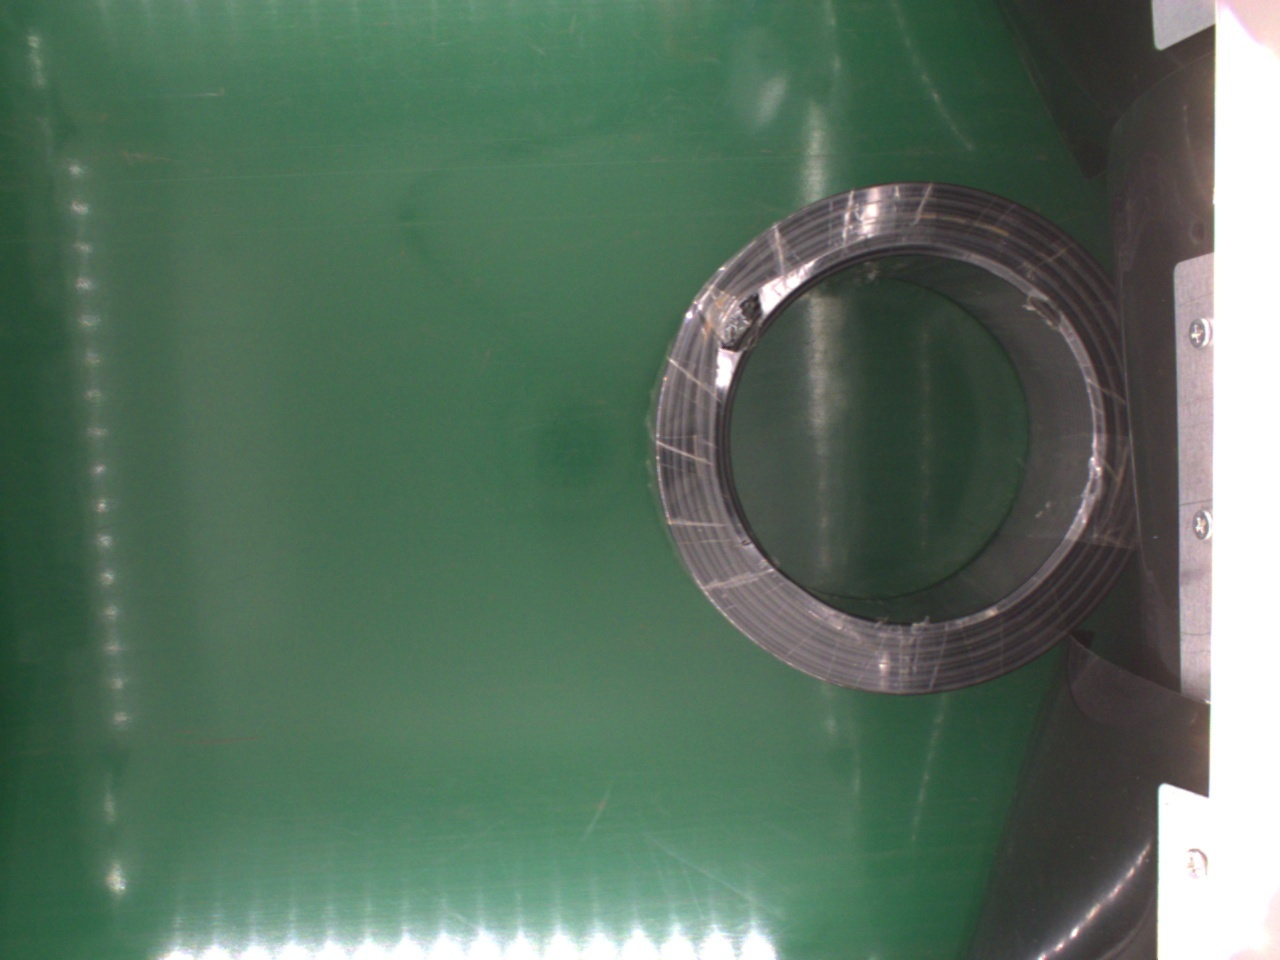black: (650, 182, 1141, 697)
